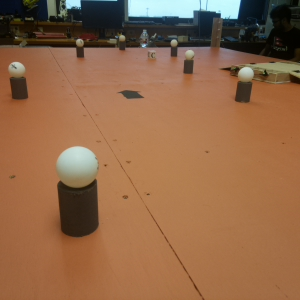blockC: (146, 50, 155, 59)
corner: (212, 18, 221, 49)
obstacle: (59, 142, 97, 233), (9, 61, 27, 99), (238, 68, 253, 101), (184, 51, 194, 74), (170, 40, 179, 57), (75, 39, 83, 56), (119, 36, 125, 49)
side: (254, 70, 280, 85)
start: (119, 88, 142, 101)
